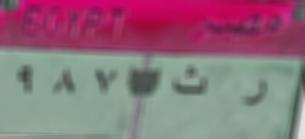7: (90, 64, 120, 98)
8: (50, 64, 76, 98)
raa: (241, 73, 268, 112)
thaa: (170, 62, 212, 101)
